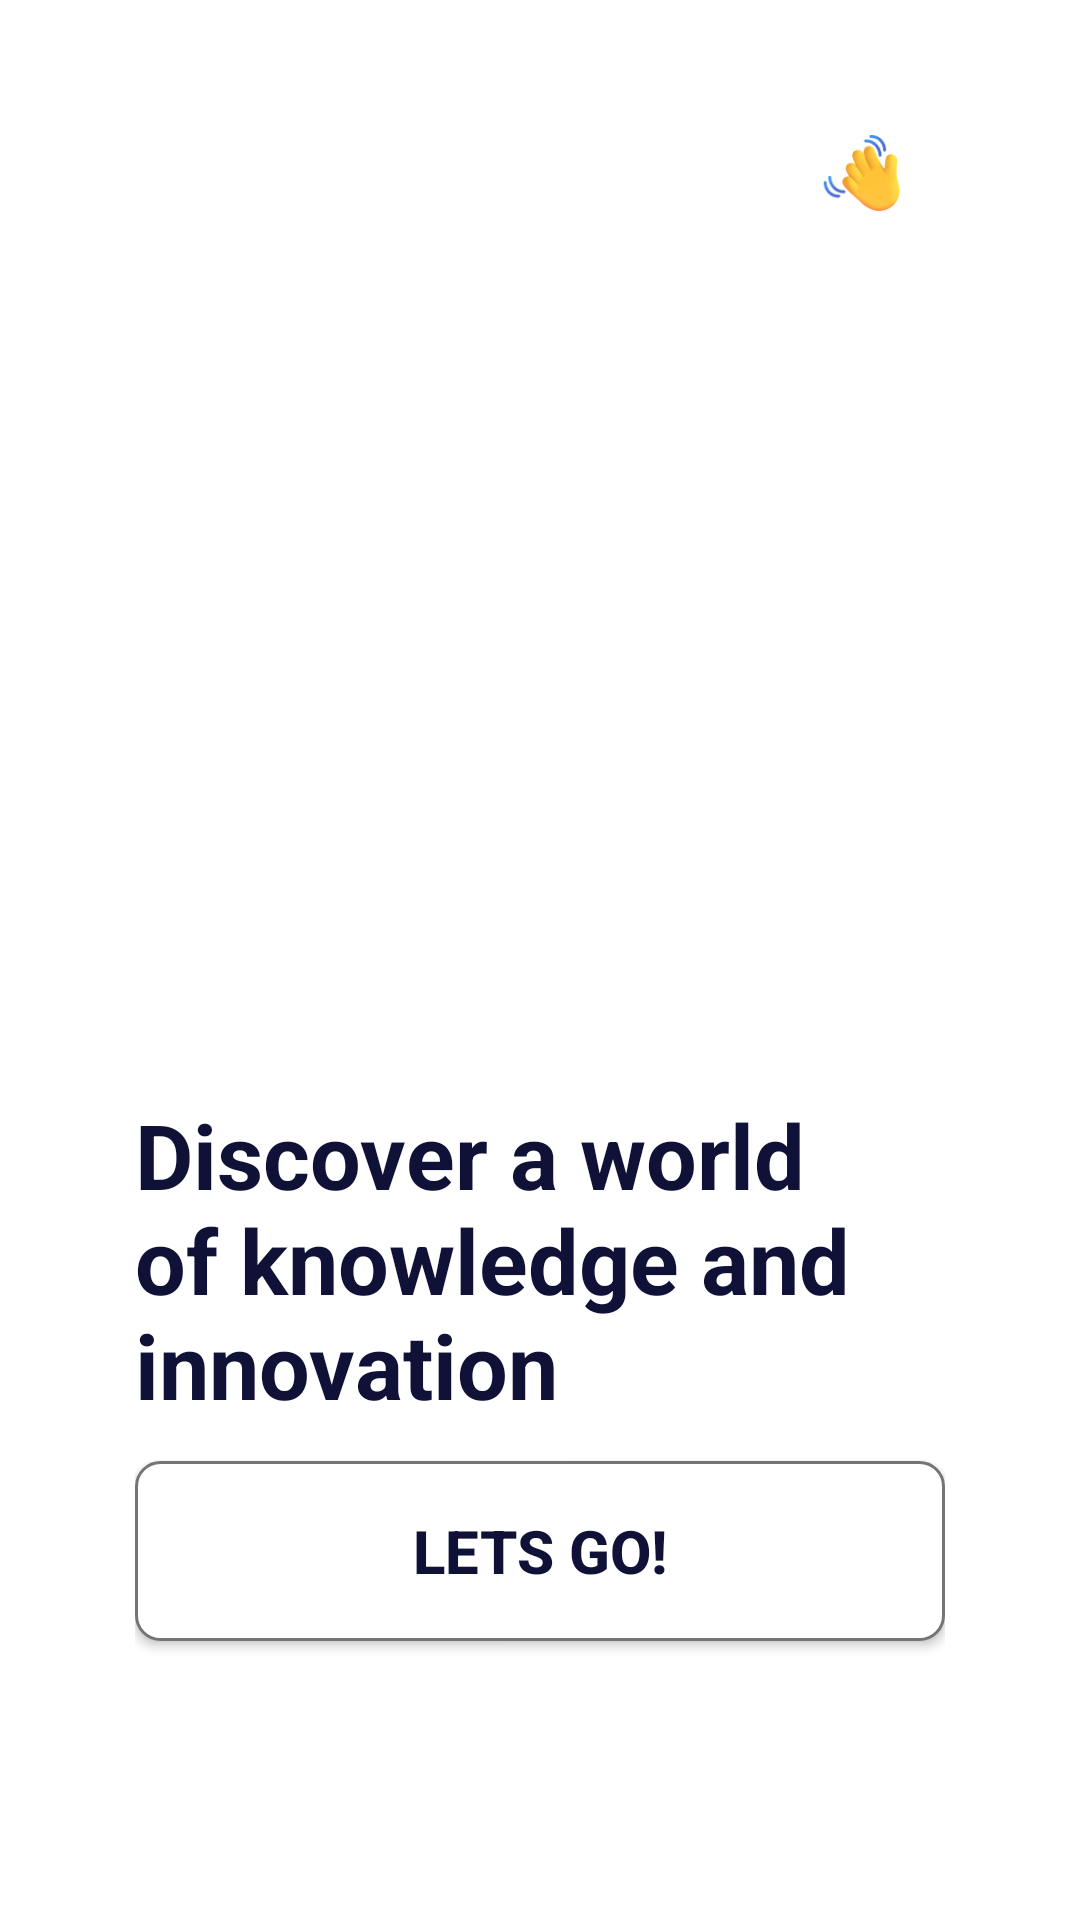

Where to tap for icons on this 1080*1920 app screen, as (x=x, y=y):
welcome to lib nova: (x=861, y=173)
